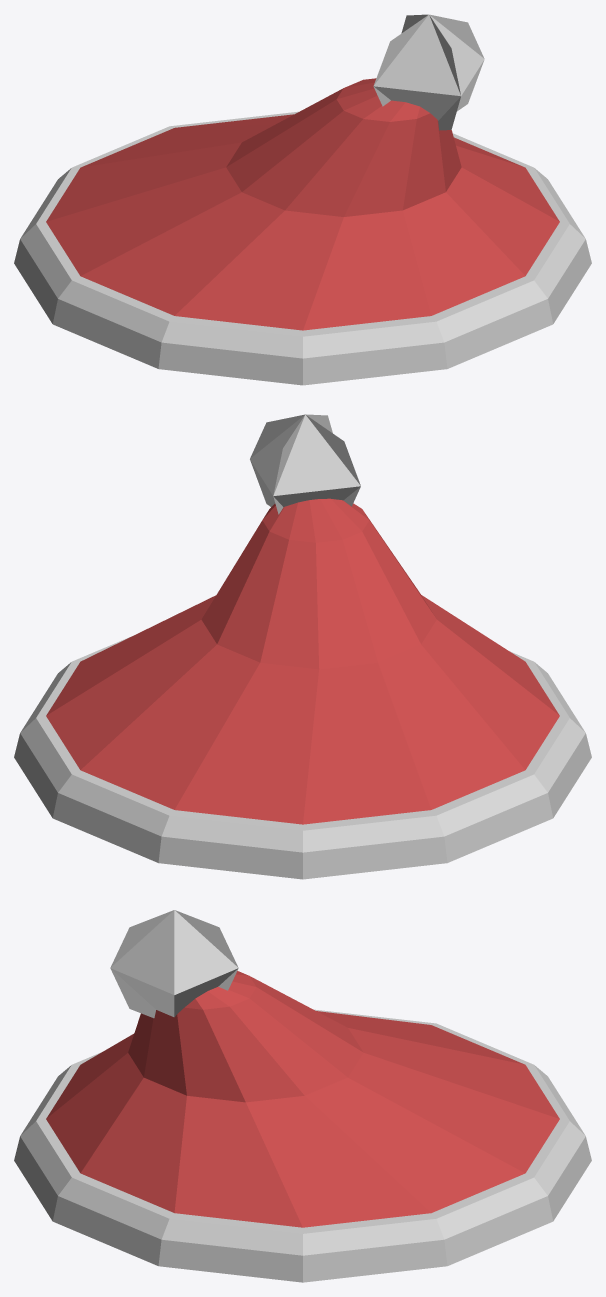
The model's file is Santa_Hat.glb.
The picture shows the model from 3 angles, top to bottom: view 1: azimuth 30°, elevation 25°; view 2: azimuth 150°, elevation 25°; view 3: azimuth 270°, elevation 25°; orthographic projection.
Parts seen in each view (by area): view 1: Santa_Hat_Merged; view 2: Santa_Hat_Merged; view 3: Santa_Hat_Merged.
Part boxes in pixels (bbox=[...]): Santa_Hat_Merged: bbox=[14, 14, 591, 385]; Santa_Hat_Merged: bbox=[14, 414, 591, 879]; Santa_Hat_Merged: bbox=[14, 910, 591, 1282].
Size of the model in its own units: 0.4048 by 0.249 by 0.4048.
